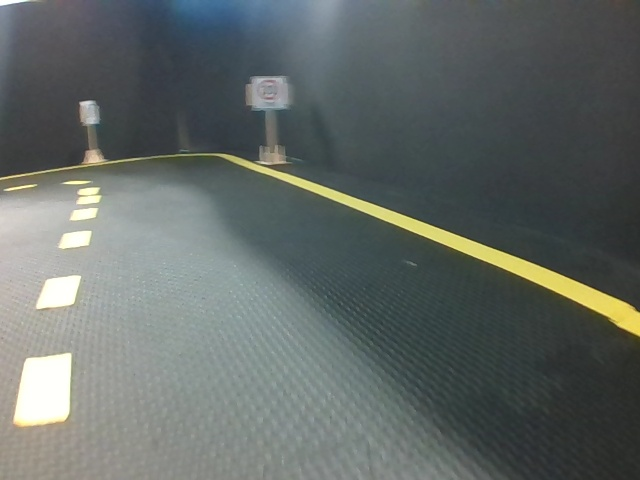30: (253, 76, 286, 108)
no30: (80, 101, 99, 125)
